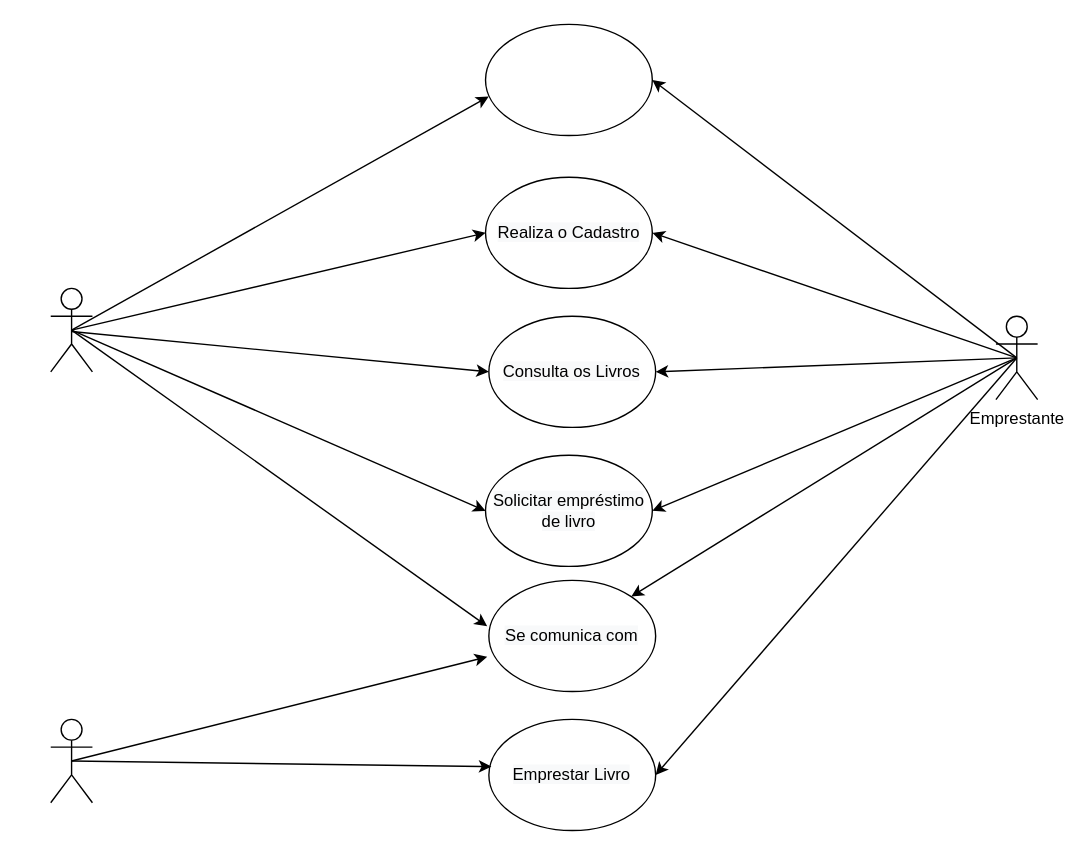
The diagram is 1088 pixels wide and 856 high, and some of its shapes have lost their labels. Here are the shapes that lost their labels. From the top down, the centre of each, then its label:
At [568,79]: "Acessa o site".
At [70,329]: "Visitante".
At [70,760]: "Emprestador".
